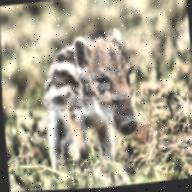boar: (37, 26, 143, 173)
